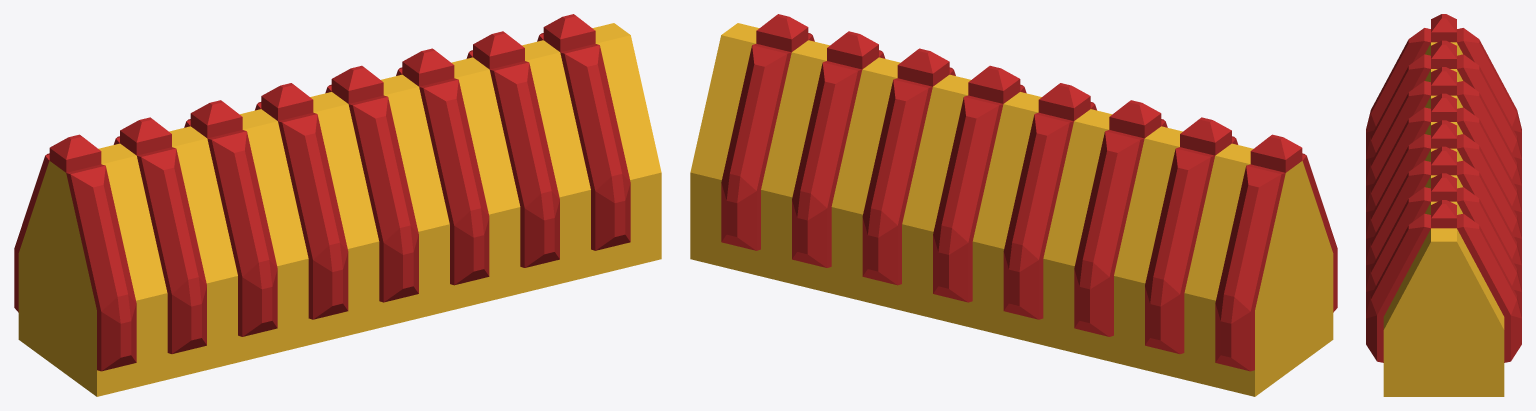
Rendered from Barricade.fbx.
The picture shows the model from 3 angles, left to right: view 1: azimuth 30°, elevation 25°; view 2: azimuth 150°, elevation 25°; view 3: azimuth 270°, elevation 25°; orthographic projection. The views are drawn at different scales.
Visible parts, largest first — view 1: Barricade; view 2: Barricade; view 3: Barricade.
Part boxes in pixels (x1,y1,x2,y2): Barricade: [14, 14, 661, 396]; Barricade: [690, 14, 1337, 396]; Barricade: [1366, 14, 1521, 396].
Size of the model in its own units: 8.34 by 3.21 by 2.58.
